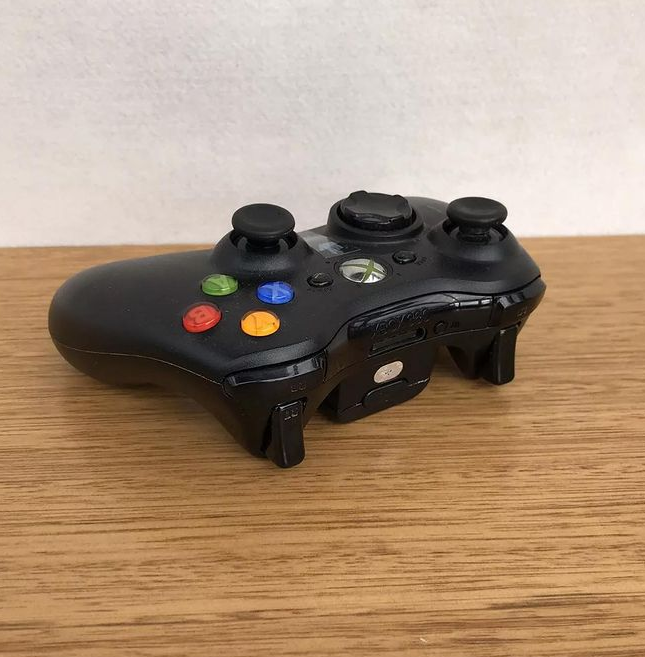gamingconsole: (40, 189, 544, 463)
